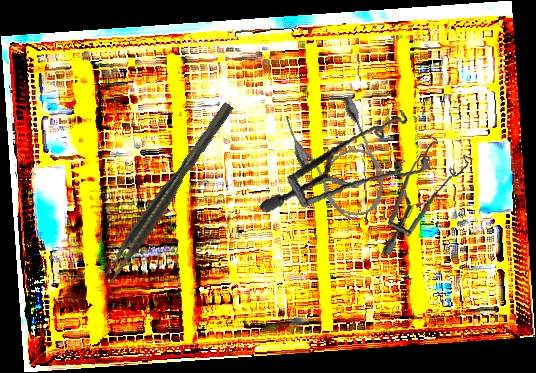Cannula: (279, 88, 398, 231)
Speculum: (259, 91, 440, 237), (381, 133, 475, 261)
Tissue Forceps: (98, 101, 240, 286)
